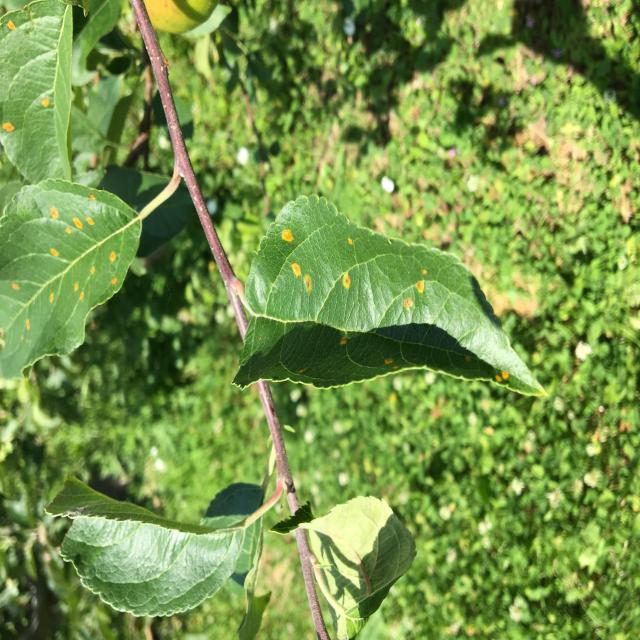Rust: (270, 215, 300, 248), (82, 254, 102, 291), (336, 271, 364, 296), (72, 277, 95, 306), (45, 285, 61, 326), (0, 108, 16, 145), (2, 4, 19, 38), (43, 242, 64, 268), (286, 255, 304, 283), (11, 268, 23, 304), (399, 288, 413, 318), (414, 275, 431, 299), (342, 228, 359, 252), (46, 196, 61, 223), (304, 275, 320, 299), (73, 214, 89, 238), (333, 332, 357, 348), (492, 364, 508, 387), (105, 242, 118, 270), (19, 318, 37, 338), (63, 220, 79, 241), (86, 212, 106, 226), (40, 93, 50, 120), (106, 273, 124, 288), (85, 190, 99, 208), (380, 354, 395, 366)
